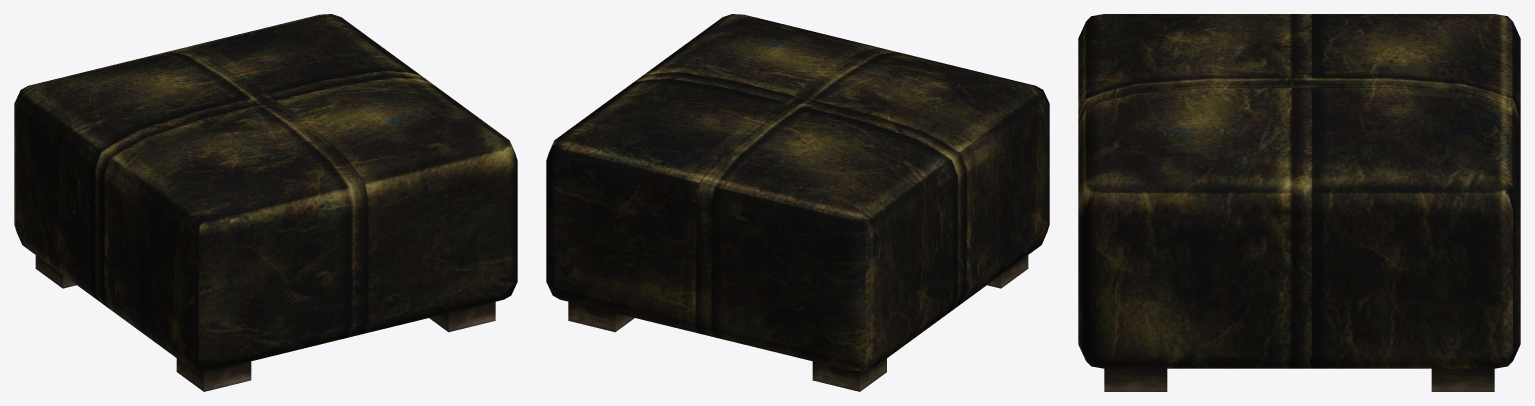
File: furniture_footstool.dae
3 views of the same model, side by side, from view 1: azimuth 30°, elevation 25°; view 2: azimuth 150°, elevation 25°; view 3: azimuth 270°, elevation 25° (orthographic). The views are drawn at different scales.
Parts seen in each view (by area): view 1: fotstool; view 2: fotstool; view 3: fotstool.
Boxes of the visible parts, <box> form: fotstool: <box>14,14,517,391</box>; fotstool: <box>546,14,1049,391</box>; fotstool: <box>1078,14,1520,391</box>.
Size of what is drawn, in the model's own units: 0.7 by 0.3941 by 0.7.
